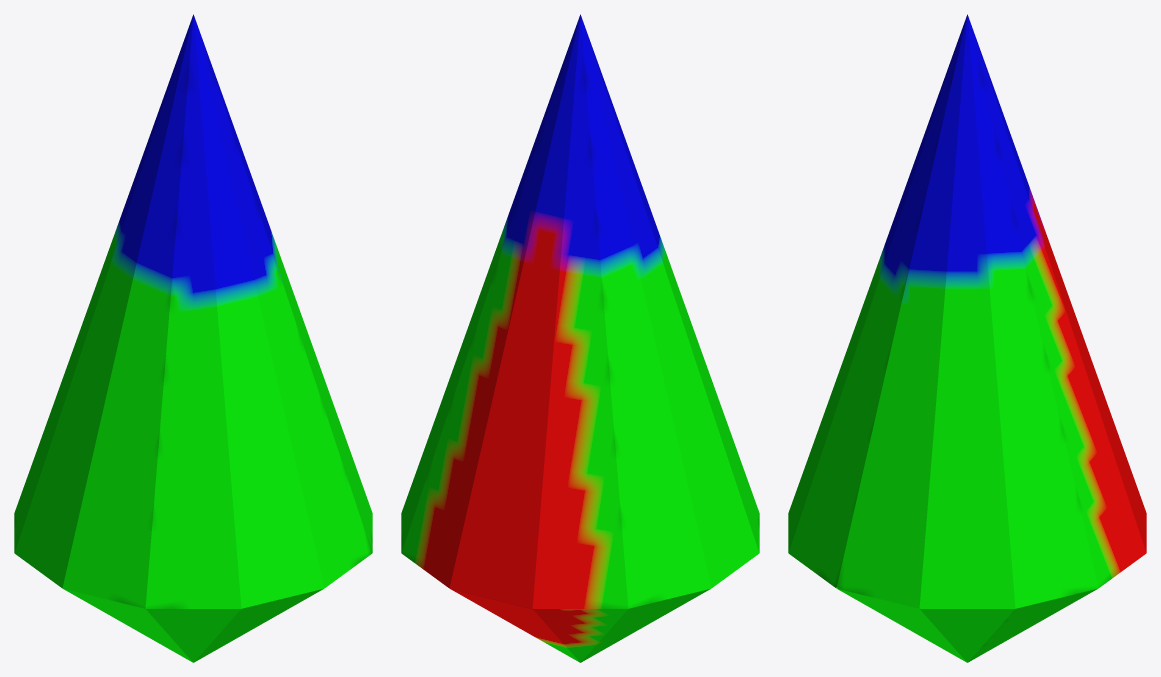
File: ear.obj
3 renders of one model, left to right at view 1: azimuth 30°, elevation 25°; view 2: azimuth 150°, elevation 25°; view 3: azimuth 270°, elevation 25°, orthographic.
Visible parts, largest first — view 1: cone; view 2: cone; view 3: cone.
Boxes of the visible parts, x1,y1,x2,y2 form: cone: [14, 14, 372, 662]; cone: [401, 14, 759, 662]; cone: [788, 14, 1146, 662].
Bounding box in the file's own units: 0.625 × 1.25 × 0.625.
Materials: 1 (1 with a texture image).
